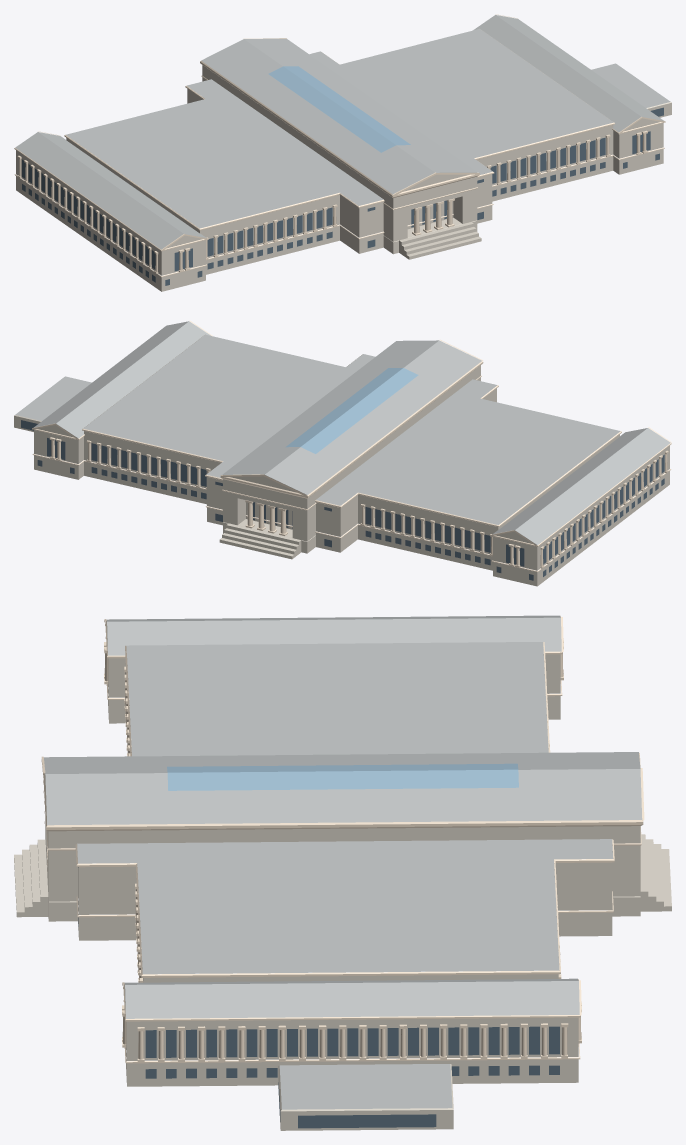
3 views of the same model, one above another, from view 1: azimuth 30°, elevation 25°; view 2: azimuth 150°, elevation 25°; view 3: azimuth 270°, elevation 25° (orthographic). The views are drawn at different scales.
Parts seen in each view (by area): view 1: field-museum; view 2: field-museum; view 3: field-museum.
Part boxes in pixels (left/top/right/bottom): field-museum: left=14, top=14, right=671, bottom=291; field-museum: left=14, top=320, right=671, bottom=586; field-museum: left=14, top=615, right=671, bottom=1130.
Size of the model in its own units: 242 by 28.9 by 150.
